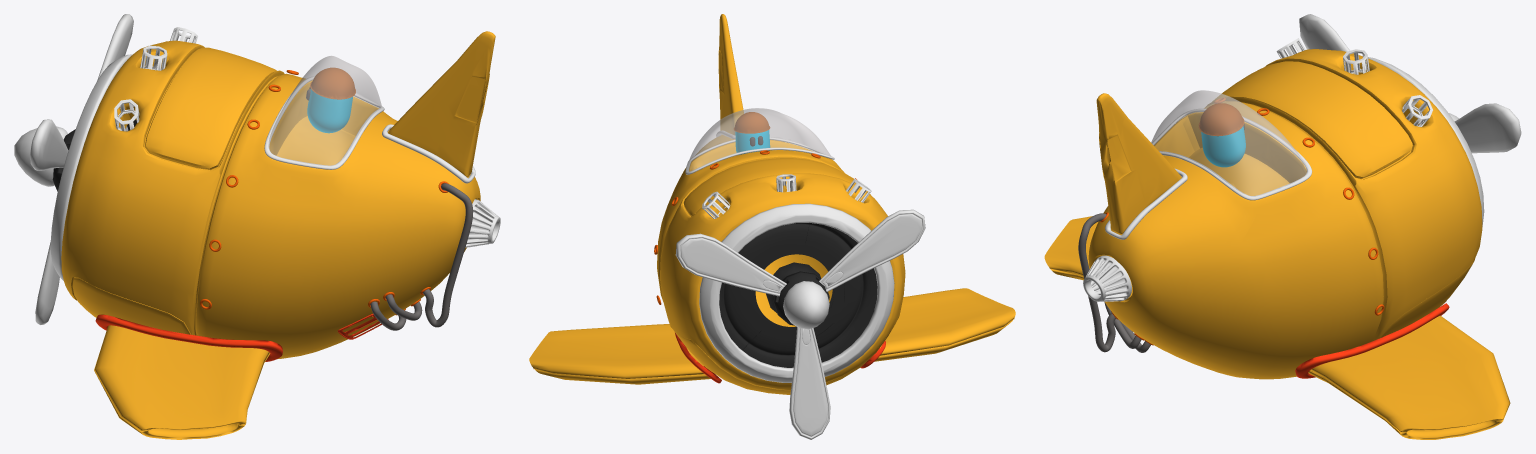
The picture shows the model from 3 angles, left to right: view 1: azimuth 30°, elevation 25°; view 2: azimuth 150°, elevation 25°; view 3: azimuth 270°, elevation 25°; orthographic projection. The views are drawn at different scales.
Visible parts, largest first — view 1: Main Part, BezierCurve, Circle.013, Circle.003; view 2: Main Part, BezierCurve, Circle.003, Circle.013, Circle.004; view 3: Main Part, BezierCurve, Circle.013, Circle.003.
Boxes of the visible parts, x1,y1,x2,y2 form: Main Part: (61,31,495,439); BezierCurve: (50,27,500,330); Circle.013: (268,56,381,165); Circle.003: (14,14,133,324); Main Part: (529,14,1015,394); BezierCurve: (654,112,894,382); Circle.003: (675,209,925,439); Circle.013: (687,108,831,171); Circle.004: (766,262,829,325); Main Part: (1044,49,1510,439); BezierCurve: (1078,38,1484,352); Circle.013: (1151,90,1307,196); Circle.003: (1299,14,1521,303).
Bounding box in the file's own units: 49.75 × 38.88 × 48.4.
Materials: 3 (3 with a texture image).
